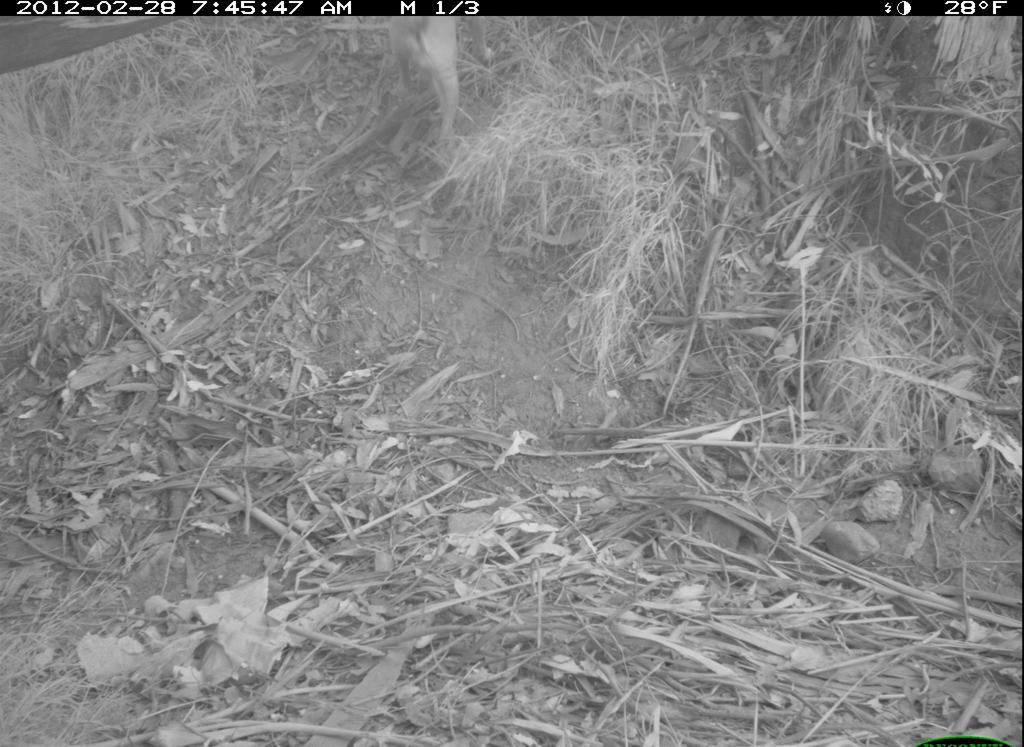dog: (383, 18, 497, 157)
